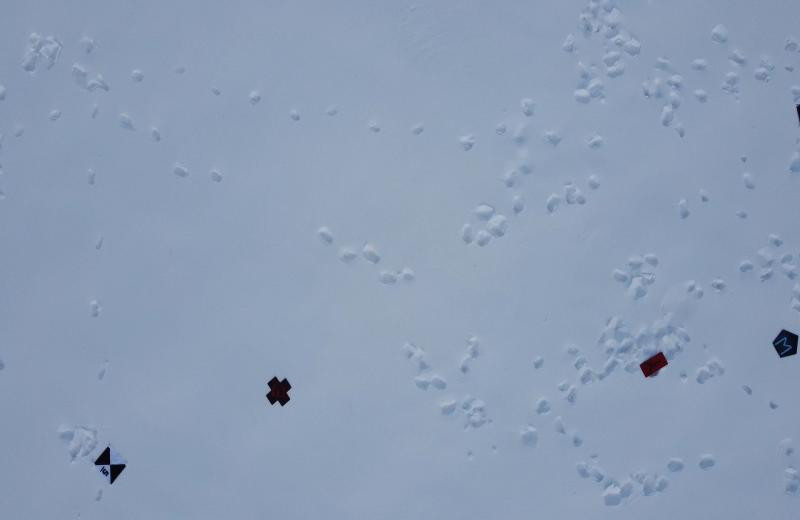Cross: (263, 373, 293, 410)
Pentagon: (768, 327, 798, 361)
Rectangle: (640, 346, 670, 382)
